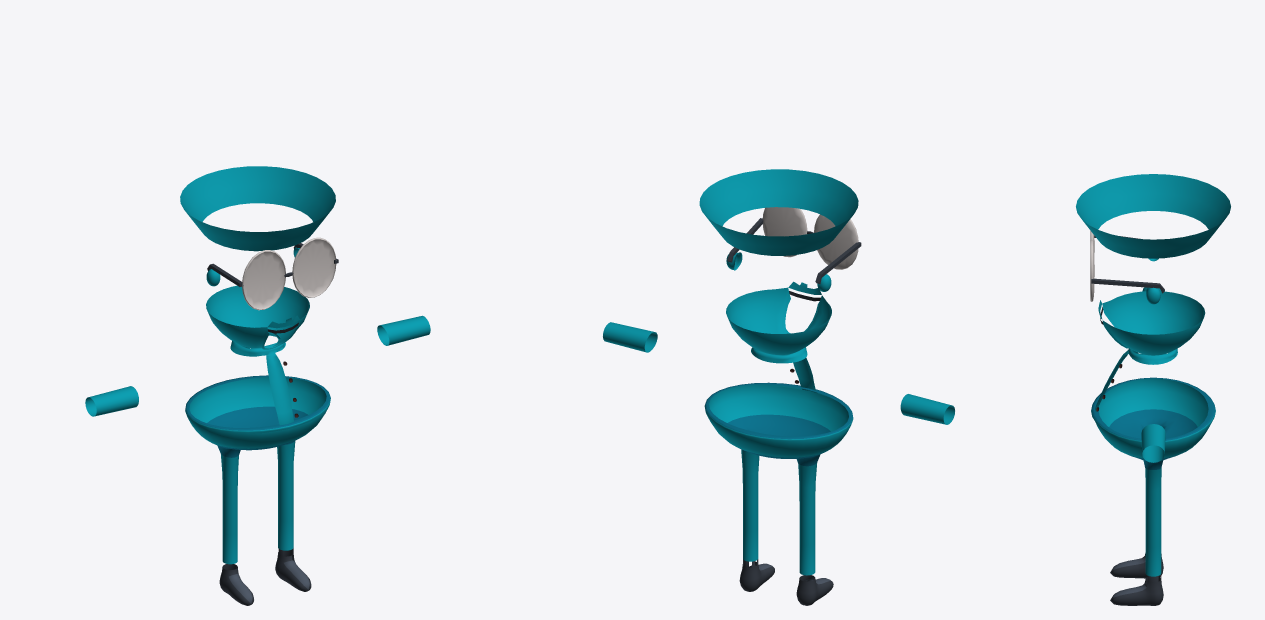
File: Cientista_lampada3.fbx
3 renders of one model, left to right at view 1: azimuth 30°, elevation 25°; view 2: azimuth 150°, elevation 25°; view 3: azimuth 270°, elevation 25°, orthographic. The views are drawn at different scales.
Visible parts, largest first — view 1: CIENTISTA.005, óculos; view 2: CIENTISTA.005, óculos; view 3: CIENTISTA.005, óculos.
Boxes of the visible parts, x1=… form: CIENTISTA.005: x1=85, y1=166, x2=430, y2=605; óculos: x1=207, y1=237, x2=338, y2=310; CIENTISTA.005: x1=603, y1=169, x2=954, y2=605; óculos: x1=727, y1=207, x2=861, y2=283; CIENTISTA.005: x1=1076, y1=174, x2=1230, y2=605; óculos: x1=1090, y1=231, x2=1164, y2=301.
Bounding box in the file's own units: 4880 × 5401 × 1700.
